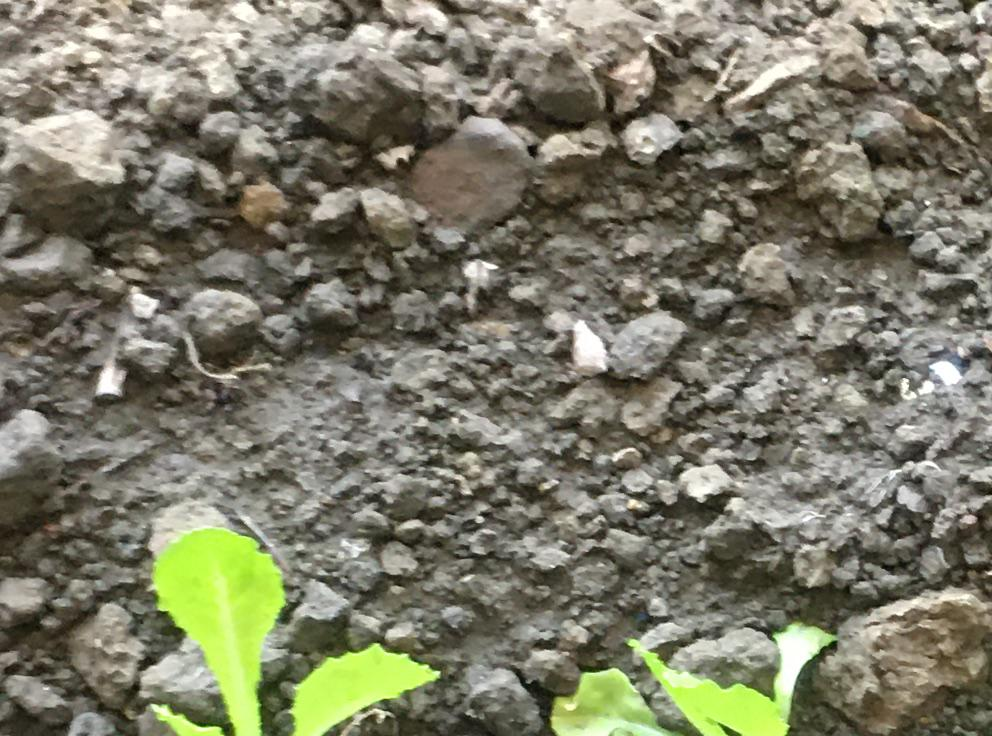block: (818, 590, 991, 736), (408, 114, 533, 238), (5, 113, 122, 242)
